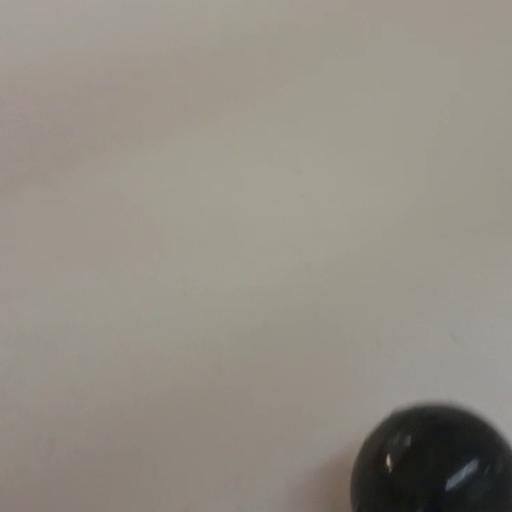dead: (347, 400, 508, 510)
